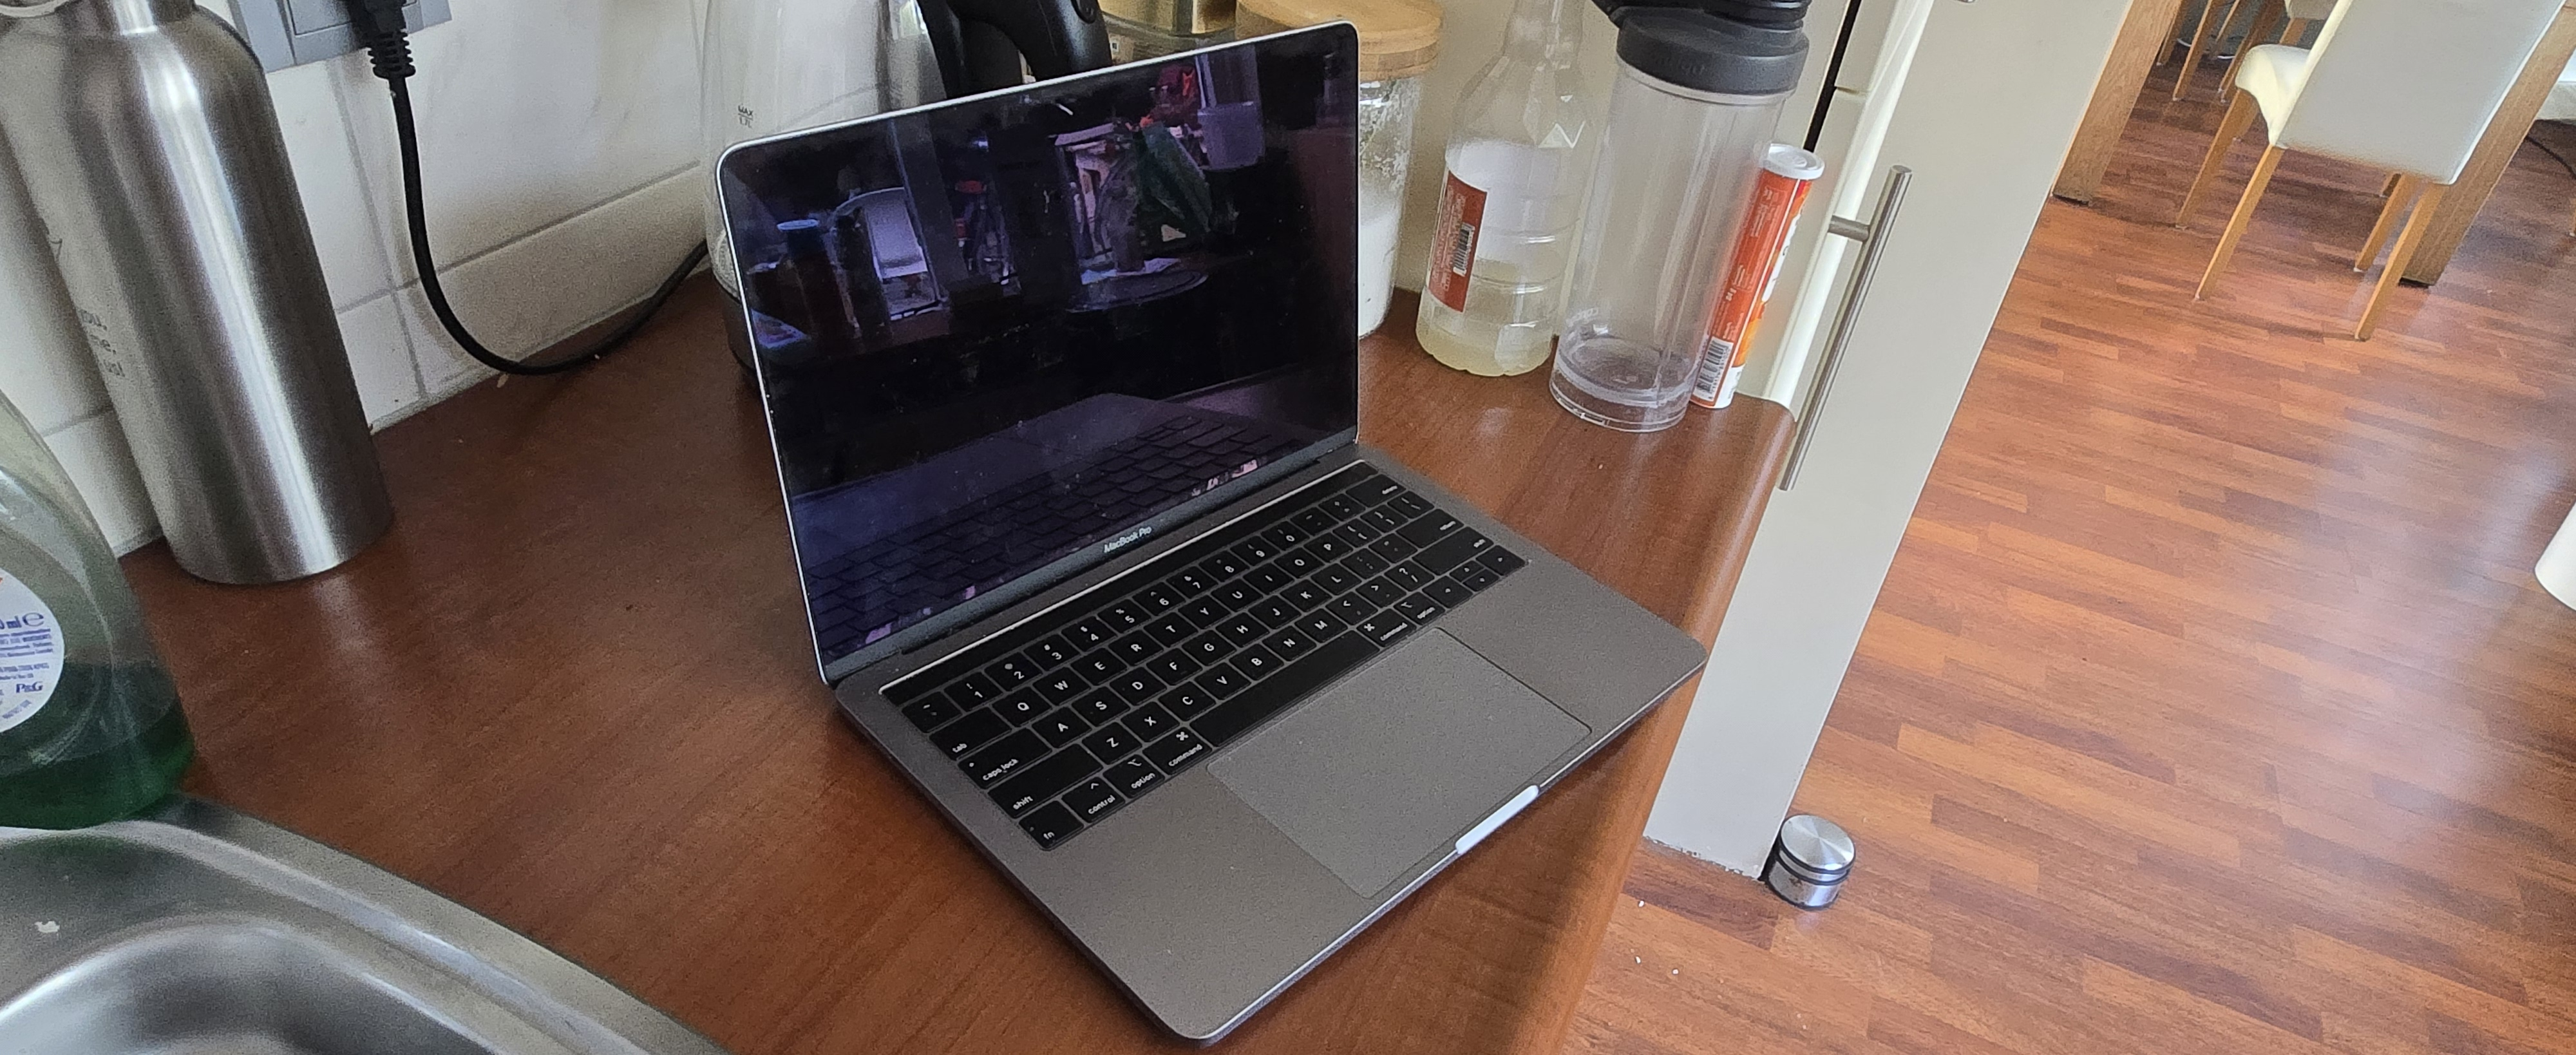laptop: (582, 7, 1782, 1055)
